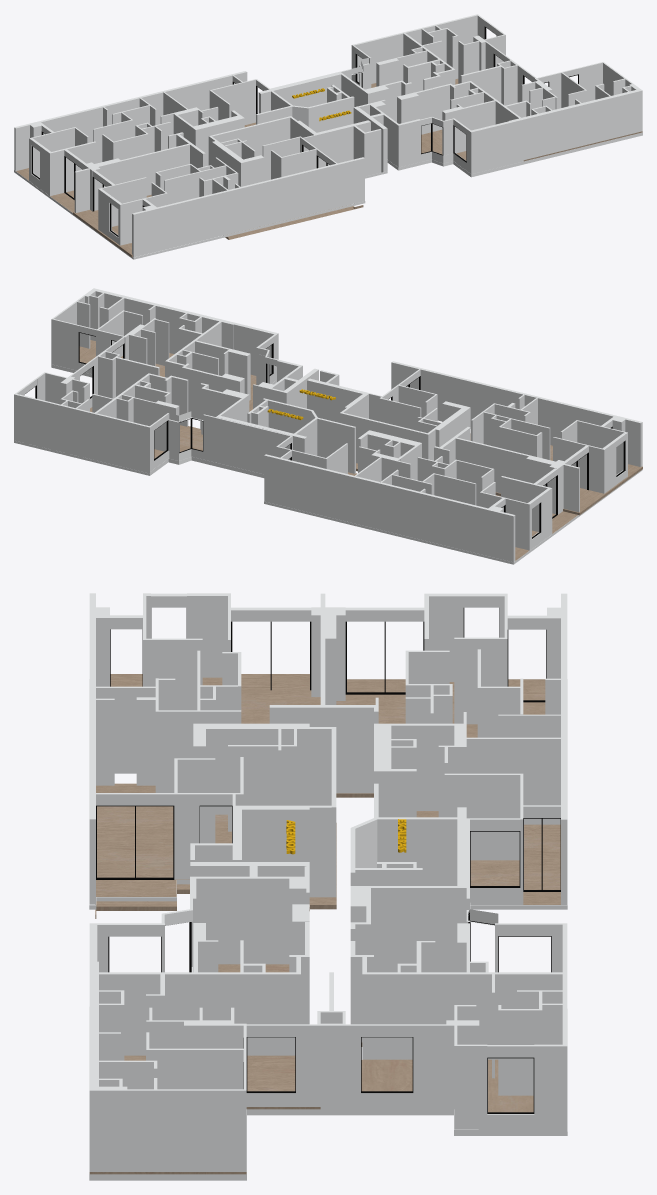
File: planta-5.glb
3 renders of one model, top to bottom at view 1: azimuth 30°, elevation 25°; view 2: azimuth 150°, elevation 25°; view 3: azimuth 270°, elevation 25°, orthographic. The views are drawn at different scales.
Parts seen in each view (by area): view 1: Component_186_2, tipo-2, tipo-1, tipo-8, tipo-3; view 2: Component_186_2, tipo-2, tipo-5, tipo-3; view 3: Component_186_2, tipo-1, tipo-4, tipo-3, tipo-2, tipo-15, tipo-7.
Boxes of the visible parts, x1,y1,x2,y2 form: Component_186_2: (14,14,642,259); tipo-2: (73,194,151,257); tipo-1: (225,205,363,239); tipo-8: (421,129,466,160); tipo-3: (16,168,74,212); Component_186_2: (14,288,642,564); tipo-2: (495,445,642,515); tipo-5: (154,425,202,458); tipo-3: (496,495,577,560); Component_186_2: (89,593,567,1180); tipo-1: (95,783,336,918); tipo-4: (416,811,560,904); tipo-3: (336,679,545,811); tipo-2: (110,674,320,723); tipo-15: (361,1060,533,1112); tipo-7: (89,1055,320,1174).
Size of what is drawn, in the model's own units: 37.5 by 3.73 by 15.22.
12 materials, 10 textured.
